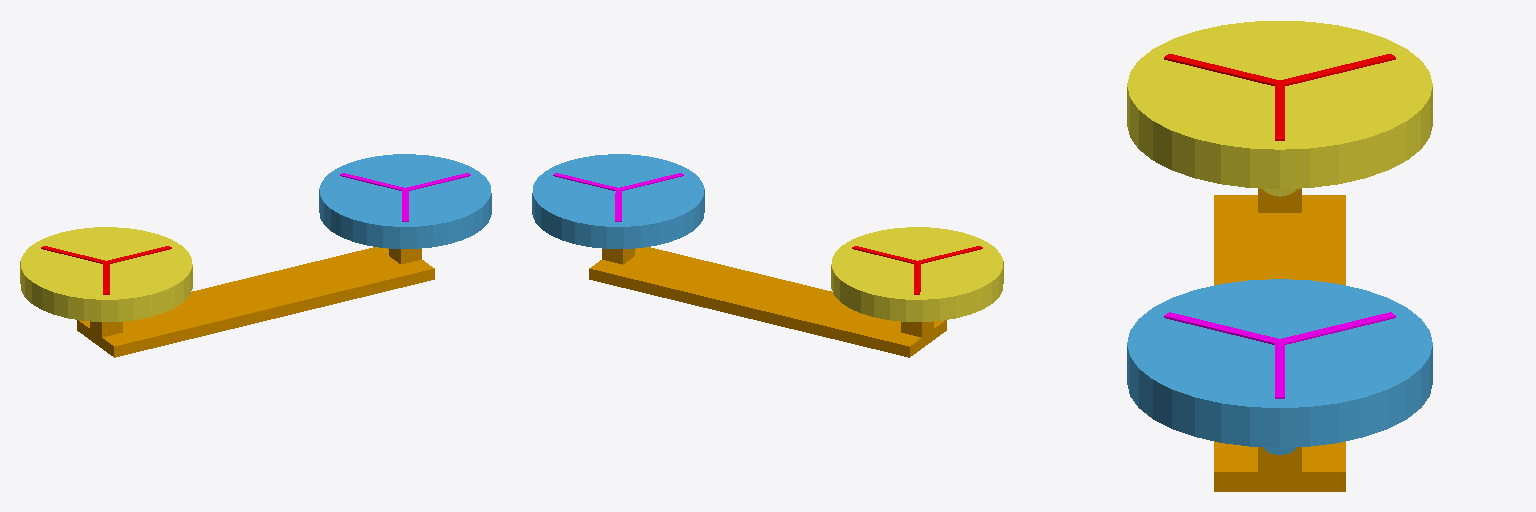
URDF robot description (bicopter):
<?xml version="1.0"?>
<robot name="bicopter">

  <material name="Red">
    <color rgba="1.0 0.0 0.0 1.0"/>
  </material>

  <material name="Magenta">
    <color rgba="1.0 0.0 1.0 1.0"/>
  </material>

  <link name="body">
    <visual>
      <origin xyz="0 0 0.005"/>
      <geometry>
        <box size="0.300 0.060 0.01" />
      </geometry>
     </visual>
     <visual>
      <origin xyz="0.140 0 0.020"/>
      <geometry>
        <box size="0.020 0.020 0.040" />
      </geometry>
     </visual>
     <visual>
      <origin xyz="-0.140 0 0.020"/>
      <geometry>
        <box size="0.020 0.020 0.040" />
      </geometry>
     </visual>
  </link>

  <link name="propguard_right">
    <visual>
      <origin xyz="0 0 0.02"/>
      <geometry>
        <cylinder radius="0.070" length="0.02"/>
      </geometry>
     </visual>
     <visual>
      <origin rpy="1.5708 0 1.5708"></origin>
      <geometry>
        <cylinder radius="0.01" length="0.07"/>
      </geometry>
     </visual>
  </link>

  <link name="propeller_right">
    <visual>
      <origin xyz="0.03 0 0.0" />
      <geometry>
        <box size="0.060 0.005 0.002"/>
      </geometry>
      <material name="Magenta"/>
     </visual>
    <visual>
      <origin xyz="-0.015 0.02598 0" rpy="0 0 2.094"/>
      <geometry>
        <box size="0.060 0.005 0.002"/>
      </geometry>
      <material name="Magenta"/>
     </visual>
     <visual>
      <origin xyz="-0.015 -0.02598 0" rpy="0 0 4.1888"/>
      <geometry>
        <box size="0.060 0.005 0.002"/>
      </geometry>
      <material name="Magenta"/>
     </visual>
  </link>

  <link name="propguard_left">
    <visual>
      <origin xyz="0 0 0.02"/>
      <geometry>
        <cylinder radius="0.070" length="0.02"/>
      </geometry>
     </visual>
     <visual>
      <origin rpy="1.5708 0 1.5708"></origin>
      <geometry>
        <cylinder radius="0.01" length="0.07"/>
      </geometry>
     </visual>
  </link>

  <link name="propeller_left">
    <visual>
      <origin xyz="0.03 0 0.0" />
      <geometry>
        <box size="0.060 0.005 0.002"/>
      </geometry>
      <material name="Red"/>
     </visual>
    <visual>
      <origin xyz="-0.015 0.02598 0" rpy="0 0 2.094"/>
      <geometry>
        <box size="0.060 0.005 0.002"/>
      </geometry>
      <material name="Red"/>
     </visual>
     <visual>
      <origin xyz="-0.015 -0.02598 0" rpy="0 0 4.1888"/>
      <geometry>
        <box size="0.060 0.005 0.002"/>
      </geometry>
      <material name="Red"/>
     </visual>
  </link>

  <joint name="J1" type="revolute">
    <parent link="body"/>
    <child link="propguard_right"/>
    <origin xyz="0.140 0 0.04"/>
    <axis xyz="1 0 0"/>
    <limit lower="-0.785" upper="0.785"/>
  </joint>

  <joint name="J2" type="continuous">
    <parent link="propguard_right"/>
    <child link="propeller_right"/>
    <origin xyz="0 0 0.030"/>
    <axis xyz="0 0 1"/>
  </joint>

  <joint name="J3" type="revolute">
    <parent link="body"/>
    <child link="propguard_left"/>
    <origin xyz="-0.140 0 0.04"/>
    <axis xyz="1 0 0"/>
    <limit lower="-0.785" upper="0.785"/>
  </joint>

  <joint name="J4" type="continuous">
    <parent link="propguard_left"/>
    <child link="propeller_left"/>
    <origin xyz="0 0 0.030"/>
    <axis xyz="0 0 1"/>
  </joint>

</robot>

--- Facts derived from the render (not from the file) ---
The picture shows the robot from 3 angles, left to right: view 1: azimuth 30°, elevation 25°; view 2: azimuth 150°, elevation 25°; view 3: azimuth 270°, elevation 25°; orthographic projection.
Model bicopter with 5 links and 4 joints (2 revolute, 2 continuous), rooted at body, posed every joint at zero.
Links seen in each view (by area): view 1: body, propguard_right, propguard_left, propeller_left, propeller_right; view 2: body, propguard_right, propguard_left, propeller_left, propeller_right; view 3: propguard_right, propguard_left, body, propeller_left, propeller_right.
Link boxes in pixels (x1,y1,x2,y2): body: [77, 247, 434, 357]; propguard_right: [319, 154, 491, 248]; propguard_left: [20, 227, 192, 321]; propeller_left: [41, 246, 171, 294]; propeller_right: [340, 173, 470, 221]; body: [589, 247, 946, 357]; propguard_right: [532, 154, 704, 248]; propguard_left: [831, 227, 1003, 321]; propeller_left: [852, 246, 982, 294]; propeller_right: [553, 173, 683, 221]; propguard_right: [1127, 279, 1432, 454]; propguard_left: [1127, 21, 1432, 196]; body: [1214, 188, 1345, 491]; propeller_left: [1164, 54, 1395, 140]; propeller_right: [1164, 312, 1395, 398].
Bounding box of the posed robot: 0.42 × 0.14 × 0.071 m (x, y, z).
Geometry: primitives only (box / cylinder / sphere), no mesh files.